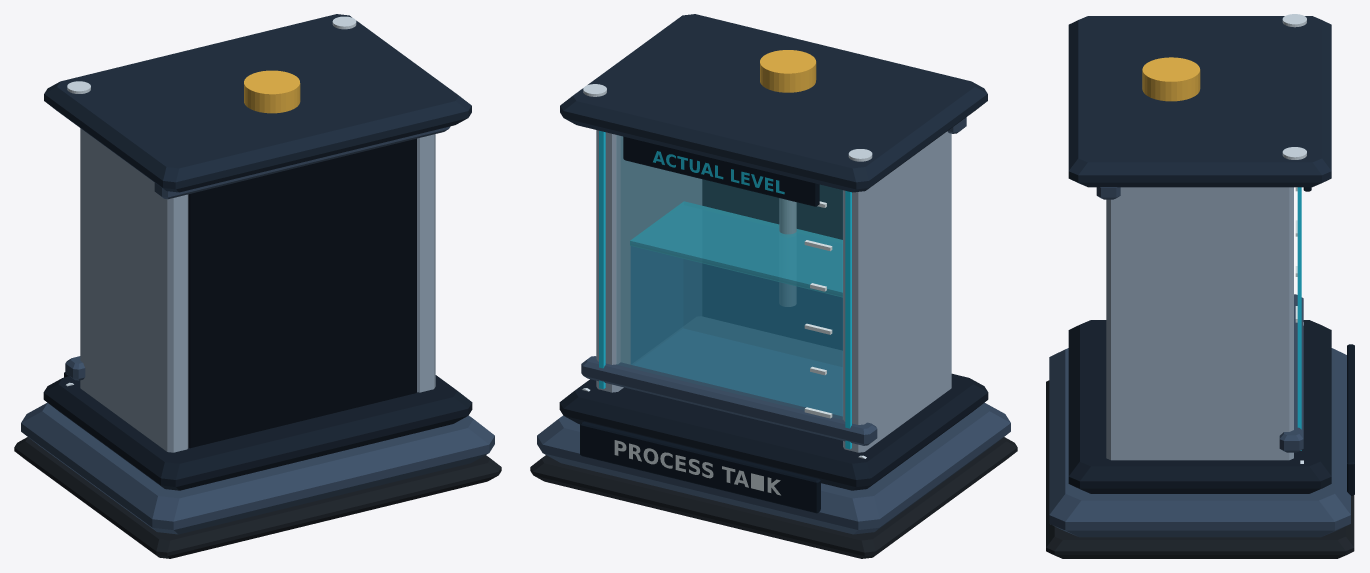
File: 06_Process_Tank.fbx
3 views of the same model, side by side, from view 1: azimuth 30°, elevation 25°; view 2: azimuth 150°, elevation 25°; view 3: azimuth 270°, elevation 25° (orthographic). The views are drawn at different scales.
Parts seen in each view (by area): view 1: 06_Process_Tank__TANK_Back_Interior, 06_Process_Tank__TANK_Industrial_TopCover, 06_Process_Tank__TANK_GuidePillar_-0.91, 06_Process_Tank__TANK_Base_CastSteel, 06_Process_Tank__TANK_Outer_Pedestal, 06_Process_Tank__TANK_Base_Rubber, 06_Process_Tank__TANK_GuidePillar_+0.91, 06_Process_Tank__TANK_Sensor_Collar, 06_Process_Tank__TANK_Frame_Sill_+0.57; view 2: 06_Process_Tank__TANK_Transparent_Front_Wall, 06_Process_Tank__TANK_Industrial_TopCover, 06_Process_Tank__TANK_GuidePillar_-0.91, 06_Process_Tank__TANK_Backlit_Water_Volume__ANIMATE_LEVEL, 06_Process_Tank__TANK_Outer_Pedestal, 06_Process_Tank__TANK_Base_CastSteel, 06_Process_Tank__TANK_Base_Rubber, 06_Process_Tank__TANK_Water_Surface_Glow__ANIMATE_LEVEL, 06_Process_Tank__TANK_GuidePillar_+0.91, 06_Process_Tank__TANK_Front_ID_Plaque, 06_Process_Tank__TANK_Frame_Sill_-0.57, 06_Process_Tank__TANK_Actual_Level_Plate (+7 smaller); view 3: 06_Process_Tank__TANK_GuidePillar_+0.91, 06_Process_Tank__TANK_Industrial_TopCover, 06_Process_Tank__TANK_Base_CastSteel, 06_Process_Tank__TANK_Outer_Pedestal, 06_Process_Tank__TANK_Base_Rubber, 06_Process_Tank__TANK_Sensor_Collar, 06_Process_Tank__TANK_Frame_Sill_-0.57, 06_Process_Tank__TANK_GuidePillar_Cyan_+0.91, 06_Process_Tank__TANK_Front_ID_Plaque.
Boxes of the visible parts, x1,y1,x2,y2 form: 06_Process_Tank__TANK_Back_Interior: [188, 138, 416, 448]; 06_Process_Tank__TANK_Industrial_TopCover: [44, 14, 471, 192]; 06_Process_Tank__TANK_GuidePillar_-0.91: [80, 128, 188, 452]; 06_Process_Tank__TANK_Base_CastSteel: [21, 402, 494, 534]; 06_Process_Tank__TANK_Outer_Pedestal: [43, 375, 472, 490]; 06_Process_Tank__TANK_Base_Rubber: [14, 437, 501, 558]; 06_Process_Tank__TANK_GuidePillar_+0.91: [417, 134, 435, 392]; 06_Process_Tank__TANK_Sensor_Collar: [244, 70, 300, 113]; 06_Process_Tank__TANK_Frame_Sill_+0.57: [154, 126, 450, 199]; 06_Process_Tank__TANK_Transparent_Front_Wall: [616, 135, 842, 419]; 06_Process_Tank__TANK_Industrial_TopCover: [560, 14, 987, 192]; 06_Process_Tank__TANK_GuidePillar_-0.91: [843, 131, 951, 452]; 06_Process_Tank__TANK_Backlit_Water_Volume__ANIMATE_LEVEL: [631, 246, 842, 415]; 06_Process_Tank__TANK_Outer_Pedestal: [559, 373, 988, 490]; 06_Process_Tank__TANK_Base_CastSteel: [537, 402, 1010, 534]; 06_Process_Tank__TANK_Base_Rubber: [530, 437, 1017, 558]; 06_Process_Tank__TANK_Water_Surface_Glow__ANIMATE_LEVEL: [630, 201, 842, 297]; 06_Process_Tank__TANK_GuidePillar_+0.91: [596, 130, 701, 392]; 06_Process_Tank__TANK_Front_ID_Plaque: [580, 421, 820, 513]; 06_Process_Tank__TANK_Frame_Sill_-0.57: [581, 356, 877, 445]; 06_Process_Tank__TANK_Actual_Level_Plate: [623, 136, 819, 206]; 06_Process_Tank__TANK_GuidePillar_+0.91: [1106, 187, 1293, 460]; 06_Process_Tank__TANK_Industrial_TopCover: [1068, 16, 1331, 187]; 06_Process_Tank__TANK_Base_CastSteel: [1049, 348, 1350, 537]; 06_Process_Tank__TANK_Outer_Pedestal: [1068, 320, 1331, 493]; 06_Process_Tank__TANK_Base_Rubber: [1046, 380, 1354, 558]; 06_Process_Tank__TANK_Sensor_Collar: [1142, 57, 1200, 101]; 06_Process_Tank__TANK_Frame_Sill_-0.57: [1279, 294, 1303, 452]; 06_Process_Tank__TANK_GuidePillar_Cyan_+0.91: [1297, 187, 1301, 450]; 06_Process_Tank__TANK_Front_ID_Plaque: [1347, 344, 1354, 495].
Size of the model in its own units: 2.55 by 2.79 by 1.93.
